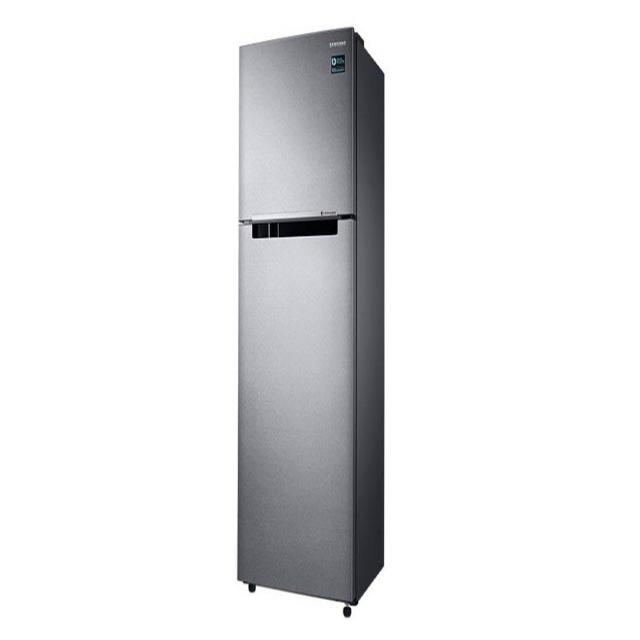refrigerator: (239, 26, 358, 608)
